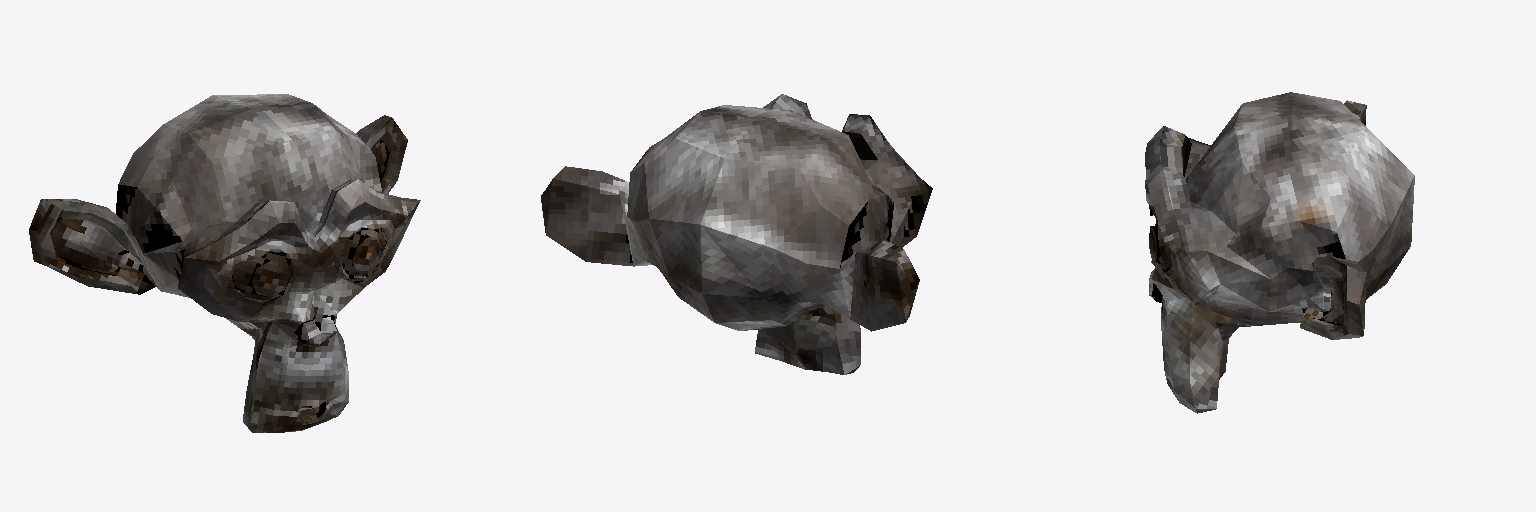
3 renders of one model, left to right at view 1: azimuth 30°, elevation 25°; view 2: azimuth 150°, elevation 25°; view 3: azimuth 270°, elevation 25°, orthographic.
Parts seen in each view (by area): view 1: Suzanne; view 2: Suzanne; view 3: Suzanne.
Boxes of the visible parts, x1=… form: Suzanne: x1=29, y1=94, x2=420, y2=432; Suzanne: x1=541, y1=94, x2=932, y2=374; Suzanne: x1=1145, y1=92, x2=1414, y2=413.
Size of the model in its own units: 2.73 by 1.97 by 1.7.
1 materials, 1 textured.